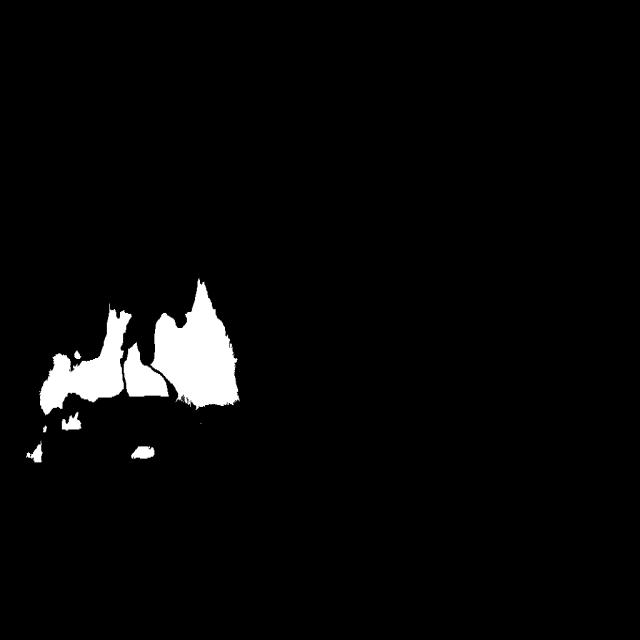fire: (0, 274, 277, 446)
